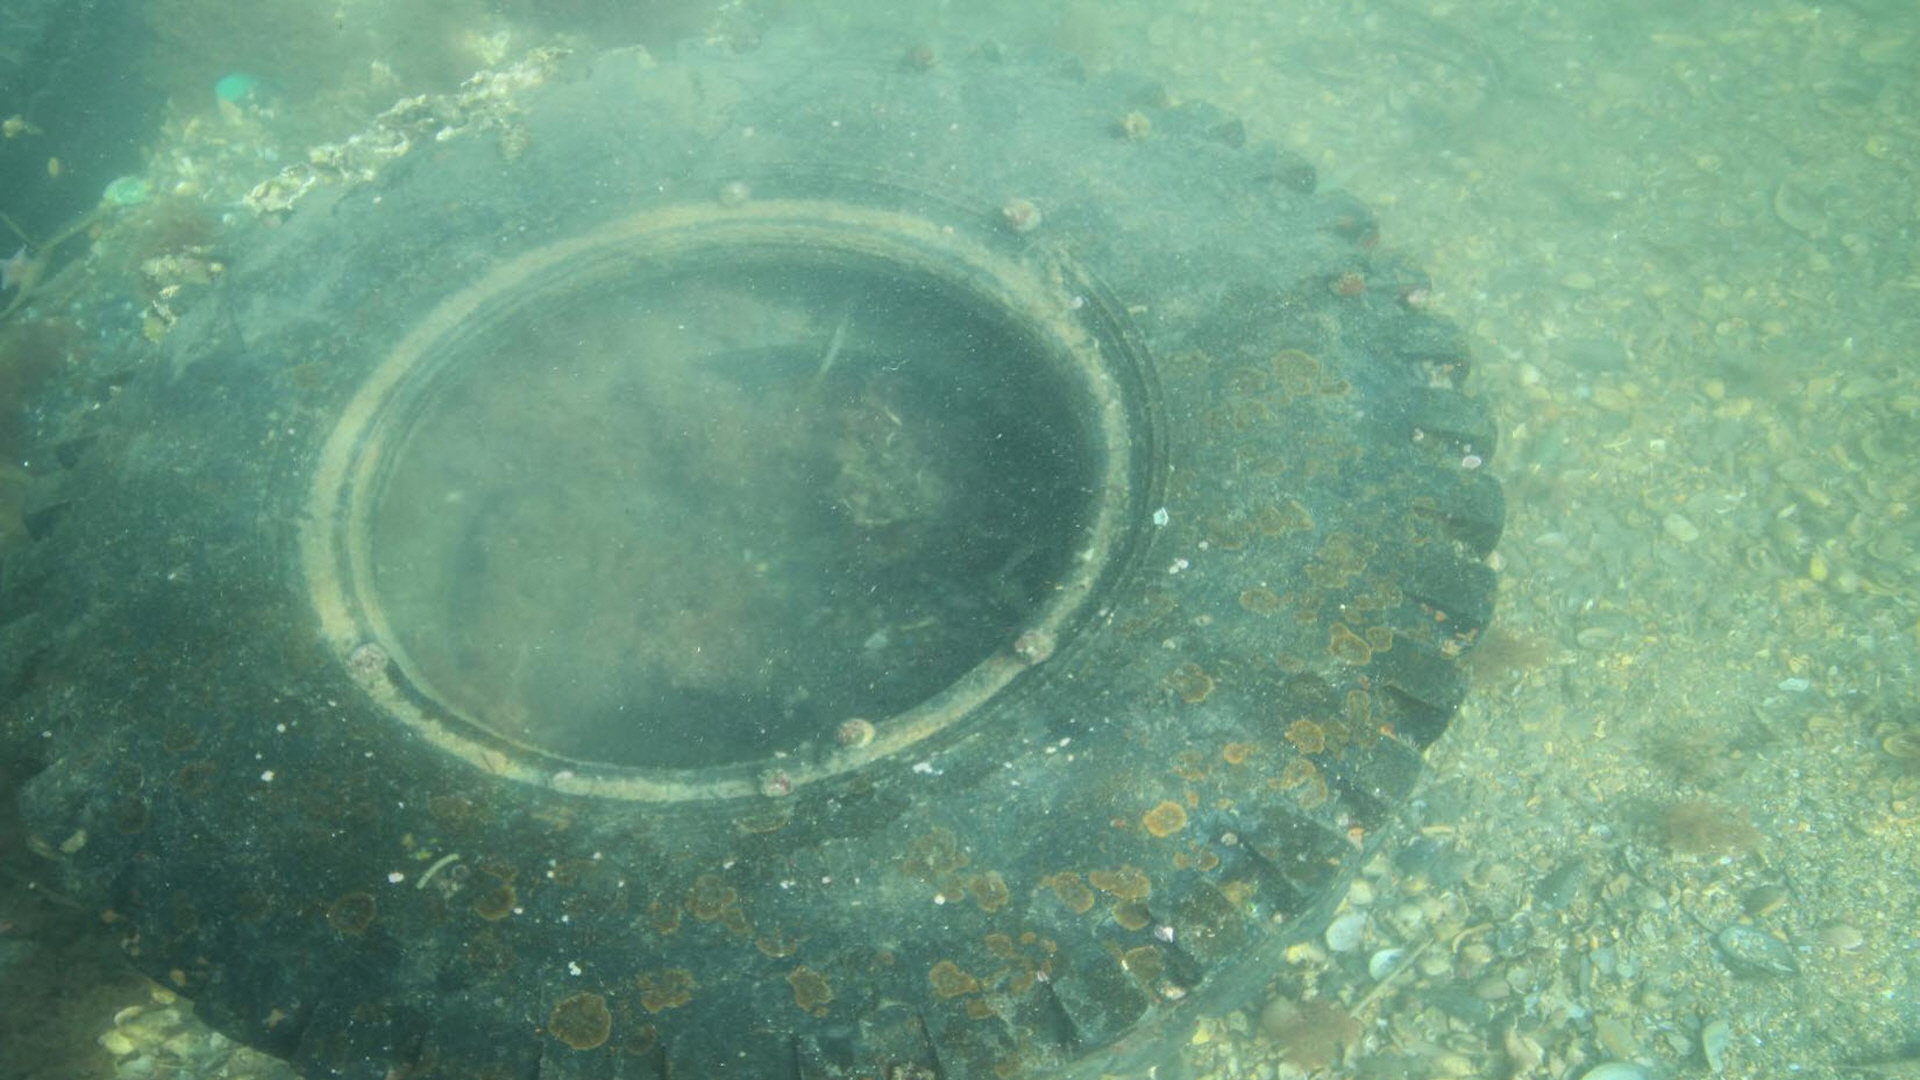tire: (0, 18, 1506, 1080)
